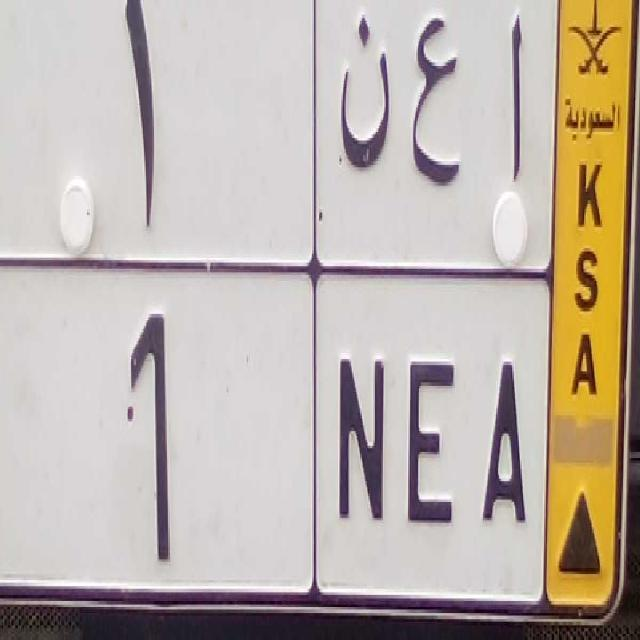license_plate: (0, 258, 549, 624)
